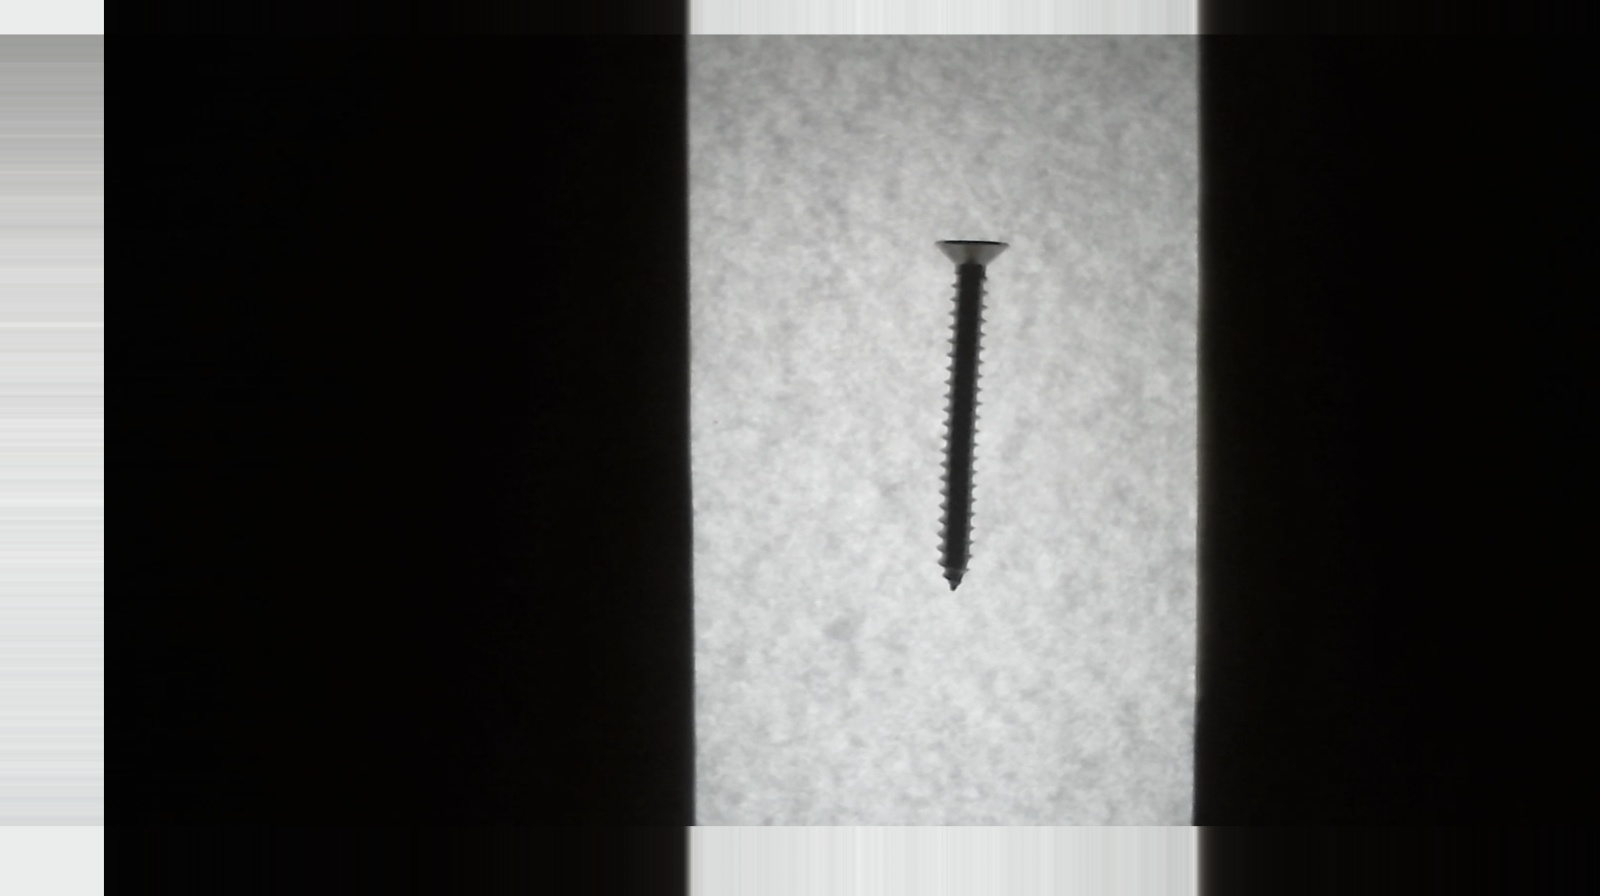S002: (913, 228, 1018, 602)
